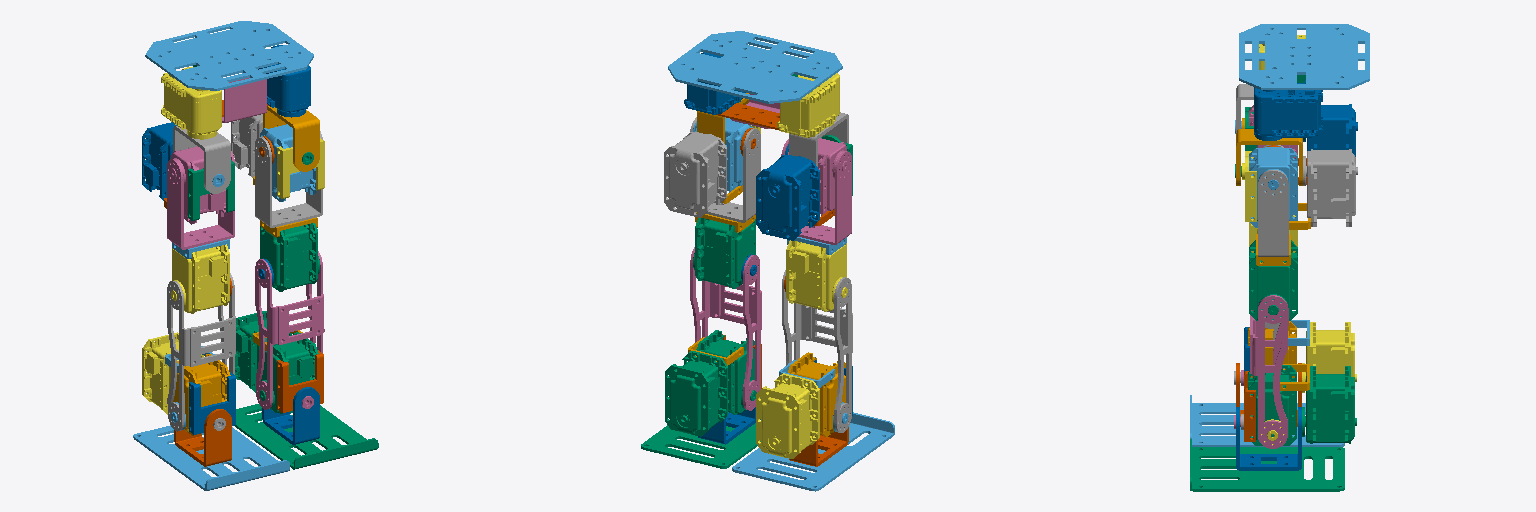
--- Render facts (derived) ---
3 views of the same robot in one strip: view 1: azimuth 30°, elevation 25°; view 2: azimuth 150°, elevation 25°; view 3: azimuth 270°, elevation 25° (orthographic).
Robot: Biped_12DOF_torsoappended_190923 — 51 links, 50 joints (12 continuous, 38 fixed); root link base_link; default pose: every joint at zero.
Links seen in each view (by area): view 1: base_link, Foot_L1, Knee_Foot_bracket_R1, Knee_Foot_Bracket_L1, Foot_R1, Knee_servo_Pitch_L1, Knee_servo_Pitch_R1, Hip_servo_Yaw_L1, Hip_Knee_bracket_L1, Hip_Knee_Backet_R1, foot_connect_L1, foot_connect_R1 (+16 smaller); view 2: base_link, Hip_servo_roll_L1, Hip_servo_roll_R1, foot_servo_roll_L1, foot_Servo_roll_R1, Foot_L1, Knee_Foot_Bracket_L1, Knee_Foot_bracket_R1, Knee_servo_Pitch_L1, Knee_servo_Pitch_R1, Foot_R1, Hip_servo_Yaw_L1 (+12 smaller); view 3: base_link, Foot_R1, Hip_servo_roll_R1, foot_Servo_roll_R1, Knee_Foot_bracket_R1, Hip_servo_Yaw__R_1, Hip_Knee_Backet_R1, Knee_servo_Pitch_R1, Foot_L1, foot_servo_roll_L1, Hip_servo_Pitch_R1, Hip_servo_roll_L1 (+6 smaller).
Link boxes in pixels (x1,y1,x2,y2): base_link: (145,21,313,90); Foot_L1: (133,425,289,490); Knee_Foot_bracket_R1: (255,251,324,409); Knee_Foot_Bracket_L1: (167,273,235,431); Foot_R1: (234,404,378,469); Knee_servo_Pitch_L1: (171,244,229,313); Knee_servo_Pitch_R1: (260,223,319,291); Hip_servo_Yaw_L1: (161,67,221,139); Hip_Knee_bracket_L1: (167,151,234,249); Hip_Knee_Backet_R1: (255,131,322,227); foot_connect_L1: (174,409,231,466); foot_connect_R1: (262,387,319,444); base_link: (668,31,842,103); Hip_servo_roll_L1: (756,155,819,240); Hip_servo_roll_R1: (664,132,726,217); foot_servo_roll_L1: (756,373,819,458); foot_Servo_roll_R1: (665,351,727,436); Foot_L1: (732,412,894,491); Knee_Foot_Bracket_L1: (782,270,852,432); Knee_Foot_bracket_R1: (690,247,761,410); Knee_servo_Pitch_L1: (786,240,847,311); Knee_servo_Pitch_R1: (693,218,755,288); Foot_R1: (641,412,760,468); Hip_servo_Yaw_L1: (777,73,839,137); base_link: (1239,24,1369,89); Foot_R1: (1190,439,1344,491); Hip_servo_roll_R1: (1303,149,1357,226); foot_Servo_roll_R1: (1302,366,1356,443); Knee_Foot_bracket_R1: (1250,295,1288,448); Hip_servo_Yaw__R_1: (1254,79,1322,140); Hip_Knee_Backet_R1: (1258,145,1288,256); Knee_servo_Pitch_R1: (1249,240,1297,320); Foot_L1: (1190,395,1344,446); foot_servo_roll_L1: (1302,322,1356,392); Hip_servo_Pitch_R1: (1249,147,1297,227); Hip_servo_roll_L1: (1303,104,1357,156).
Size in the robot's own frame: 0.148 by 0.131 by 0.3349 metres.
50 mesh visuals loaded from 50 distinct referenced files (50 binary STL).

robot.urdf — Biped_12DOF_torsoappended_190923:
<?xml version="1.0" ?>
<robot name="Biped_12DOF_torsoappended_190923">

<material name="silver">
  <color rgba="0.700 0.700 0.700 1.000"/>
</material>

<link name="base_box">
  <inertial>
    
    <!--origin xyz="-0.07139043603557767 -0.16954551899156534 0.300032870177832" rpy="0 0 0"/-->
    <mass value="0.01"/>
    <inertia ixx="0.00025" ixy="0" ixz="0" iyy="0.00089" iyz="0" izz="0.00064"/>
     
     <!--inertia ixx="0.00250000000000000006" ixy="0" ixz="0" iyy="0.0089000000000000002" iyz="0" izz="0.00640" for m= 1/-->
  </inertial>
  <visual>
    <origin xyz="0 0 0" rpy="0 0 0"/>
    <geometry>
      <!--box size=".08 .02 .05"/-->
      <box size="0 0 0"/>
    </geometry>
    <material name="silver"/>
    <material/>
  </visual>
  <collision>
    <origin xyz="0 0 0" rpy="0 0 0"/>
    <geometry>
      <box size="0.0 0.0 0.0"/>
    </geometry>
  </collision>
</link>


<link name="base_link">
  <inertial>
    <origin xyz="0.06060872462491695 0.036723589973975845 0.30999861161402337" rpy="0 0 0"/>
    <mass value="0.02188916916153513"/>
    <inertia ixx="1.4745375687328505e-05" iyy="2.054443019497247e-05" izz="3.527521310286041e-05" ixy="-9.684751620381694e-09" iyz="-2.168404344971009e-19" ixz="1.0842021724855044e-19"/>
  </inertial>
  <visual>
    <origin xyz="0 0 0" rpy="0 0 0"/>
    <geometry>
      <mesh filename="meshes/base_link.stl" scale="0.001 0.001 0.001"/>
    </geometry>
    <material name="silver"/>
    <material/>
  </visual>
  <collision>
    <origin xyz="0 0 0" rpy="0 0 0"/>
    <geometry>
      <mesh filename="meshes/base_link.stl" scale="0.001 0.001 0.001"/>
    </geometry>
  </collision>
</link>

<link name="connect_link_v11">
  <inertial>
    <origin xyz="8.755939062687901e-08 -0.005999506282332957 -0.0032503883859776317" rpy="0 0 0"/>
    <mass value="0.00969209120805048"/>
    <inertia ixx="4.4427801889897027e-07" iyy="2.5957966162830142e-06" izz="2.9718261595912686e-06" ixy="5.759824041329242e-20" iyz="-2.710505431213761e-20" ixz="0.0"/>
  </inertial>
  <visual>
    <origin xyz="-0.060628 -0.038873 -0.308999" rpy="0 0 0"/>
    <geometry>
      <mesh filename="meshes/connect_link_v11.stl" scale="0.001 0.001 0.001"/>
    </geometry>
    <material name="silver"/>
    <material/>
  </visual>
  <collision>
    <origin xyz="-0.060628 -0.038873 -0.308999" rpy="0 0 0"/>
    <geometry>
      <mesh filename="meshes/connect_link_v11.stl" scale="0.001 0.001 0.001"/>
    </geometry>
  </collision>
</link>

<link name="Hip_servo_Yaw_L1">
  <inertial>
    <origin xyz="-0.013531113018413154 -0.00969047444291548 -0.01700249284622163" rpy="0 0 0"/>
    <mass value="0.0811"/>
    <inertia ixx="2.3417335463269515e-05" iyy="12.961400395210524e-06" izz="1.969636612402693e-05" ixy="2.0523614970348356e-08" iyz="-1.5930335249283921e-07" ixz="-2.7805076826824883e-09"/>
  </inertial>
  <visual>
    <origin xyz="-0.035628 -0.032873 -0.302499" rpy="0 0 0"/>
    <geometry>
      <mesh filename="meshes/Hip_servo_Yaw_L1.stl" scale="0.001 0.001 0.001"/>
    </geometry>
    <material name="silver"/>
    <material/>
  </visual>
  <collision>
    <origin xyz="-0.035628 -0.032873 -0.302499" rpy="0 0 0"/>
    <geometry>
      <mesh filename="meshes/Hip_servo_Yaw_L1.stl" scale="0.001 0.001 0.001"/>
    </geometry>
  </collision>
</link>

<link name="Hip_servo_Yaw__R_1">
  <inertial>
    <origin xyz="0.013468886981585007 -0.00969047444291786 -0.016802492846221484" rpy="0 0 0"/>
    <mass value="0.0811"/>
    <inertia ixx="2.3417335463269515e-05" iyy="12.961400395210524e-06" izz="1.969636612402693e-05" ixy="2.0523614970348356e-08" iyz="-1.5930335249283921e-07" ixz="-2.7805076826824883e-09"/>
  </inertial>
  <visual>
    <origin xyz="-0.085628 -0.032873 -0.302499" rpy="0 0 0"/>
    <geometry>
      <mesh filename="meshes/Hip_servo_Yaw__R_1.stl" scale="0.001 0.001 0.001"/>
    </geometry>
    <material name="silver"/>
    <material/>
  </visual>
  <collision>
    <origin xyz="-0.085628 -0.032873 -0.302499" rpy="0 0 0"/>
    <geometry>
      <mesh filename="meshes/Hip_servo_Yaw__R_1.stl" scale="0.001 0.001 0.001"/>
    </geometry>
  </collision>
</link>

<link name="connect_link_21">
  <inertial>
    <origin xyz="0.025000087559390392 4.93717667540694e-07 -0.0007503883859772409" rpy="0 0 0"/>
    <mass value="0.0022366364326270346"/>
    <inertia ixx="9.507024189355125e-08" iyy="5.915745335974634e-07" izz="6.858060368287546e-07" ixy="1.4399560103323106e-20" iyz="3.3881317890172014e-21" ixz="6.776263578034403e-21"/>
  </inertial>
  <visual>
    <origin xyz="-0.035628 -0.032873 -0.270499" rpy="0 0 0"/>
    <geometry>
      <mesh filename="meshes/connect_link_21.stl" scale="0.001 0.001 0.001"/>
    </geometry>
    <material name="silver"/>
    <material/>
  </visual>
  <collision>
    <origin xyz="-0.035628 -0.032873 -0.270499" rpy="0 0 0"/>
    <geometry>
      <mesh filename="meshes/connect_link_21.stl" scale="0.001 0.001 0.001"/>
    </geometry>
  </collision>
</link>

<link name="support_link1">
  <inertial>
    <origin xyz="8.755938650517603e-08 -0.01899092222380293 0.008312349694208576" rpy="0 0 0"/>
    <mass value="0.004271598629814522"/>
    <inertia ixx="9.380132827919367e-07" iyy="9.819874908971005e-07" izz="8.644459883259723e-07" ixy="-2.82061971435682e-19" iyz="2.809956492261554e-07" ixz="1.4907779871675686e-19"/>
  </inertial>
  <visual>
    <origin xyz="-0.060628 -0.038873 -0.268999" rpy="0 0 0"/>
    <geometry>
      <mesh filename="meshes/support_link1.stl" scale="0.001 0.001 0.001"/>
    </geometry>
    <material name="silver"/>
    <material/>
  </visual>
  <collision>
    <origin xyz="-0.060628 -0.038873 -0.268999" rpy="0 0 0"/>
    <geometry>
      <mesh filename="meshes/support_link1.stl" scale="0.001 0.001 0.001"/>
    </geometry>
  </collision>
</link>

<link name="Hip_bracket_yaw_L_v11">
  <inertial>
    <origin xyz="8.755937528151514e-08 -0.00019455926519733498 -0.012368152810058874" rpy="0 0 0"/>
    <mass value="0.008735700587823858"/>
    <inertia ixx="4.557715173367227e-06" iyy="1.596604357873184e-06" izz="3.6811077103368883e-06" ixy="-8.343274530454858e-20" iyz="-2.8340072973809954e-08" ixz="-3.503328269843786e-18"/>
  </inertial>
  <visual>
    <origin xyz="-0.022128 -0.010373 -0.265499" rpy="0 0 0"/>
    <geometry>
      <mesh filename="meshes/Hip_bracket_yaw_L_v11.stl" scale="0.001 0.001 0.001"/>
    </geometry>
    <material name="silver"/>
    <material/>
  </visual>
  <collision>
    <origin xyz="-0.022128 -0.010373 -0.265499" rpy="0 0 0"/>
    <geometry>
      <mesh filename="meshes/Hip_bracket_yaw_L_v11.stl" scale="0.001 0.001 0.001"/>
    </geometry>
  </collision>
</link>

<link name="Hip_Bracket_yaw_R1">
  <inertial>
    <origin xyz="8.755937279392167e-08 -0.0001945592651994444 -0.012368152810057986" rpy="0 0 0"/>
    <mass value="0.008735700587823858"/>
    <inertia ixx="4.557715173370263e-06" iyy="1.5966043578800144e-06" izz="3.681107710333268e-06" ixy="-7.115076756936123e-20" iyz="-2.8340072973769297e-08" ixz="-3.415236843329339e-18"/>
  </inertial>
  <visual>
    <origin xyz="-0.099128 -0.010373 -0.265699" rpy="0 0 0"/>
    <geometry>
      <mesh filename="meshes/Hip_Bracket_yaw_R1.stl" scale="0.001 0.001 0.001"/>
    </geometry>
    <material name="silver"/>
    <material/>
  </visual>
  <collision>
    <origin xyz="-0.099128 -0.010373 -0.265699" rpy="0 0 0"/>
    <geometry>
      <mesh filename="meshes/Hip_Bracket_yaw_R1.stl" scale="0.001 0.001 0.001"/>
    </geometry>
  </collision>
</link>

<link name="Bush_2_1">
  <inertial>
    <origin xyz="0.022128087559382902 0.21457600178506725 -0.04262638838534463" rpy="0 0 0"/>
    <mass value="0.00033912761870964644"/>
    <inertia ixx="3.5534106983028924e-09" iyy="4.084788845227892e-09" izz="3.553410474846204e-09" ixy="-2.6469779601696886e-23" iyz="-1.4336032632279033e-19" ixz="2.117582368135751e-22"/>
  </inertial>
  <visual>
    <origin xyz="0.0 0.226125 -0.279125" rpy="0 0 0"/>
    <geometry>
      <mesh filename="meshes/Bush_2_1.stl" scale="0.001 0.001 0.001"/>
    </geometry>
    <material name="silver"/>
    <material/>
  </visual>
  <collision>
    <origin xyz="0.0 0.226125 -0.279125" rpy="0 0 0"/>
    <geometry>
      <mesh filename="meshes/Bush_2_1.stl" scale="0.001 0.001 0.001"/>
    </geometry>
  </collision>
</link>

<link name="Bush_1_v11">
  <inertial>
    <origin xyz="-0.07712791244061934 -0.2586209982149346 -0.04262638838534433" rpy="0 0 0"/>
    <mass value="0.00033912761870964644"/>
    <inertia ixx="3.5534106983028924e-09" iyy="4.084788845234668e-09" izz="3.553410474846707e-09" ixy="5.293955920339377e-23" iyz="-1.4336032632279033e-19" ixz="0.0"/>
  </inertial>
  <visual>
    <origin xyz="-0.176256 -0.247072 -0.279325" rpy="0 0 0"/>
    <geometry>
      <mesh filename="meshes/Bush_1_v11.stl" scale="0.001 0.001 0.001"/>
    </geometry>
    <material name="silver"/>
    <material/>
  </visual>
  <collision>
    <origin xyz="-0.176256 -0.247072 -0.279325" rpy="0 0 0"/>
    <geometry>
      <mesh filename="meshes/Bush_1_v11.stl" scale="0.001 0.001 0.001"/>
    </geometry>
  </collision>
</link>

<link name="Washer_11">
  <inertial>
    <origin xyz="-0.09912791244096347 -0.008551506282331372 0.2366986116140234" rpy="0 0 0"/>
    <mass value="0.0001569470040624276"/>
    <inertia ixx="2.095397917133054e-09" iyy="4.096365919137407e-09" izz="2.095397782786852e-09" ixy="2.6469779601696886e-23" iyz="0.0" ixz="4.235164736271502e-22"/>
  </inertial>
  <visual>
    <origin xyz="-0.198256 -0.0 -0.0" rpy="0 0 0"/>
    <geometry>
      <mesh filename="meshes/Washer_11.stl" scale="0.001 0.001 0.001"/>
    </geometry>
    <material name="silver"/>
    <material/>
  </visual>
  <collision>
    <origin xyz="-0.198256 -0.0 -0.0" rpy="0 0 0"/>
    <geometry>
      <mesh filename="meshes/Washer_11.stl" scale="0.001 0.001 0.001"/>
    </geometry>
  </collision>
</link>

<link name="Hip_servo_roll_L1">
  <inertial>
    <origin xyz="0.02212792246244539 0.28094966903192353 -0.005937424755607296" rpy="0 0 0"/>
     <mass value="0.0811"/>
    <inertia ixx="2.3417335463269515e-05" iyy="12.961400395210524e-06" izz="1.969636612402693e-05" ixy="2.0523614970348356e-08" iyz="-1.5930335249283921e-07" ixz="-2.7805076826824883e-09"/>
  </inertial>
  <visual>
    <origin xyz="0.0 0.226125 -0.231125" rpy="0 0 0"/>
    <geometry>
      <mesh filename="meshes/Hip_servo_roll_L1.stl" scale="0.001 0.001 0.001"/>
    </geometry>
    <material name="silver"/>
    <material/>
  </visual>
  <collision>
    <origin xyz="0.0 0.226125 -0.231125" rpy="0 0 0"/>
    <geometry>
      <mesh filename="meshes/Hip_servo_roll_L1.stl" scale="0.001 0.001 0.001"/>
    </geometry>
  </collision>
</link>

<link name="Support_roll_servo_L1">
  <inertial>
    <origin xyz="-0.008342818068121632 -0.007693332734379908 -8.605220785384837e-07" rpy="0 0 0"/>
    <mass value="0.001003390579055556"/>
    <inertia ixx="5.969253484000835e-08" iyy="1.9068402818395841e-07" izz="2.44845355143008e-07" ixy="-1.0691242380712038e-09" iyz="-8.557850778121313e-13" ixz="1.6064752087411026e-10"/>
  </inertial>
  <visual>
    <origin xyz="-0.030628 -0.040148 -0.200699" rpy="0 0 0"/>
    <geometry>
      <mesh filename="meshes/Support_roll_servo_L1.stl" scale="0.001 0.001 0.001"/>
    </geometry>
    <material name="silver"/>
    <material/>
  </visual>
  <collision>
    <origin xyz="-0.030628 -0.040148 -0.200699" rpy="0 0 0"/>
    <geometry>
      <mesh filename="meshes/Support_roll_servo_L1.stl" scale="0.001 0.001 0.001"/>
    </geometry>
  </collision>
</link>

<link name="Hip_servo_Pitch_L1">
  <inertial>
    <origin xyz="0.014675874563868638 -0.00849934833873182 0.02448944364464442" rpy="0 0 0"/>
    <mass value="0.0811"/>
    <inertia ixx="2.3417335463269515e-05" iyy="12.961400395210524e-06" izz="1.969636612402693e-05" ixy="2.0523614970348356e-08" iyz="-1.5930335249283921e-07" ixz="-2.7805076826824883e-09"/>
  </inertial>
  <visual>
    <origin xyz="-0.007126 -0.021598 -0.200711" rpy="0 0 0"/>
    <geometry>
      <mesh filename="meshes/Hip_servo_Pitch_L1.stl" scale="0.001 0.001 0.001"/>
    </geometry>
    <material name="silver"/>
    <material/>
  </visual>
  <collision>
    <origin xyz="-0.007126 -0.021598 -0.200711" rpy="0 0 0"/>
    <geometry>
      <mesh filename="meshes/Hip_servo_Pitch_L1.stl" scale="0.001 0.001 0.001"/>
    </geometry>
  </collision>
</link>

<link name="Hip_servo_roll_R1">
  <inertial>
    <origin xyz="-7.753755698614029e-08 0.02042667618526226 -0.011311424755605842" rpy="0 0 0"/>
    <mass value="0.0811"/>
    <inertia ixx="2.3417335463269515e-05" iyy="12.961400395210524e-06" izz="1.969636612402693e-05" ixy="2.0523614970348356e-08" iyz="-1.5930335249283921e-07" ixz="-2.7805076826824883e-09"/>
  </inertial>
  <visual>
    <origin xyz="-0.099128 -0.034373 -0.236699" rpy="0 0 0"/>
    <geometry>
      <mesh filename="meshes/Hip_servo_roll_R1.stl" scale="0.001 0.001 0.001"/>
    </geometry>
    <material name="silver"/>
    <material/>
  </visual>
  <collision>
    <origin xyz="-0.099128 -0.034373 -0.236699" rpy="0 0 0"/>
    <geometry>
      <mesh filename="meshes/Hip_servo_roll_R1.stl" scale="0.001 0.001 0.001"/>
    </geometry>
  </collision>
</link>

<link name="Support_roll_Servo_R1">
  <inertial>
    <origin xyz="-0.008482904734634547 -0.007763870604140438 -7.445276328510442e-07" rpy="0 0 0"/>
    <mass value="0.000991152631600229"/>
    <inertia ixx="5.899142983411561e-08" iyy="1.8810254074607535e-07" izz="2.4162816800247254e-07" ixy="-6.052279683857172e-11" iyz="-1.6902670593133494e-12" ixz="1.5851502979013143e-10"/>
  </inertial>
  <visual>
    <origin xyz="-0.107628 -0.040123 -0.200899" rpy="0 0 0"/>
    <geometry>
      <mesh filename="meshes/Support_roll_Servo_R1.stl" scale="0.001 0.001 0.001"/>
    </geometry>
    <material name="silver"/>
    <material/>
  </visual>
  <collision>
    <origin xyz="-0.107628 -0.040123 -0.200899" rpy="0 0 0"/>
    <geometry>
      <mesh filename="meshes/Support_roll_Servo_R1.stl" scale="0.001 0.001 0.001"/>
    </geometry>
  </collision>
</link>

<link name="Hip_servo_Pitch_R1">
  <inertial>
    <origin xyz="-0.014676502879000491 -0.008499671379272359 0.024488710964318067" rpy="0 0 0"/>
     <mass value="0.0811"/>
    <inertia ixx="2.3417335463269515e-05" iyy="12.961400395210524e-06" izz="1.969636612402693e-05" ixy="2.0523614970348356e-08" iyz="-1.5930335249283921e-07" ixz="-2.7805076826824883e-09"/>
  </inertial>
  <visual>
    <origin xyz="-0.114126 -0.021593 -0.200886" rpy="0 0 0"/>
    <geometry>
      <mesh filename="meshes/Hip_servo_Pitch_R1.stl" scale="0.001 0.001 0.001"/>
    </geometry>
    <material name="silver"/>
    <material/>
  </visual>
  <collision>
    <origin xyz="-0.114126 -0.021593 -0.200886" rpy="0 0 0"/>
    <geometry>
      <mesh filename="meshes/Hip_servo_Pitch_R1.stl" scale="0.001 0.001 0.001"/>
    </geometry>
  </collision>
</link>

<link name="side_attach_L_hip1">
  <inertial>
    <origin xyz="0.014999692096273623 -0.0030449648531452583 -0.0129790855107213" rpy="0 0 0"/>
    <mass value="0.0051821405505521004"/>
    <inertia ixx="6.678809461064129e-07" iyy="1.5448767594578657e-06" izz="9.305088933269494e-07" ixy="1.376428539288238e-20" iyz="2.639983998775246e-08" ixz="-4.0657581468206416e-20"/>
  </inertial>
  <visual>
    <origin xyz="-0.007126 0.001902 -0.241011" rpy="0 0 0"/>
    <geometry>
      <mesh filename="meshes/side_attach_L_hip1.stl" scale="0.001 0.001 0.001"/>
    </geometry>
    <material name="silver"/>
    <material/>
  </visual>
  <collision>
    <origin xyz="-0.007126 0.001902 -0.241011" rpy="0 0 0"/>
    <geometry>
      <mesh filename="meshes/side_attach_L_hip1.stl" scale="0.001 0.001 0.001"/>
    </geometry>
  </collision>
</link>

<link name="side_attach_R_hip1">
  <inertial>
    <origin xyz="0.014999679588596604 -0.0030449576998069347 -0.012979818191048487" rpy="0 0 0"/>
    <mass value="0.0051821405505521004"/>
    <inertia ixx="6.678809461064129e-07" iyy="1.5448767594578115e-06" izz="9.305088933269325e-07" ixy="4.1081097941833566e-20" iyz="2.6399839987756695e-08" ixz="-5.421010862427522e-20"/>
  </inertial>
  <visual>
    <origin xyz="-0.084126 0.001907 -0.241186" rpy="0 0 0"/>
    <geometry>
      <mesh filename="meshes/side_attach_R_hip1.stl" scale="0.001 0.001 0.001"/>
    </geometry>
    <material name="silver"/>
    <material/>
  </visual>
  <collision>
    <origin xyz="-0.084126 0.001907 -0.241186" rpy="0 0 0"/>
    <geometry>
      <mesh filename="meshes/side_attach_R_hip1.stl" scale="0.001 0.001 0.001"/>
    </geometry>
  </collision>
</link>

<link name="Horn_L_pitch1">
  <inertial>
    <origin xyz="0.0012521355878538712 4.865593969827914e-07 4.813353695898304e-07" rpy="0 0 0"/>
    <mass value="0.0010452069679460242"/>
    <inertia ixx="5.912619983875389e-08" iyy="3.074557111910957e-08" izz="3.074619929578471e-08" ixy="-1.0727354639620493e-17" iyz="-9.826429221097138e-18" ixz="2.9483977007094004e-13"/>
  </inertial>
  <visual>
    <origin xyz="-0.041376 -0.013098 -0.236511" rpy="0 0 0"/>
    <geometry>
      <mesh filename="meshes/Horn_L_pitch1.stl" scale="0.001 0.001 0.001"/>
    </geometry>
    <material name="silver"/>
    <material/>
  </visual>
  <collision>
    <origin xyz="-0.041376 -0.013098 -0.236511" rpy="0 0 0"/>
    <geometry>
      <mesh filename="meshes/Horn_L_pitch1.stl" scale="0.001 0.001 0.001"/>
    </geometry>
  </collision>
</link>

<link name="Horn_R_pitch1">
  <inertial>
    <origin xyz="-0.0012527639029847326 4.937225982701299e-07 -2.5134495748591057e-07" rpy="0 0 0"/>
    <mass value="0.0010452069679460242"/>
    <inertia ixx="5.912619983876067e-08" iyy="3.074557111909602e-08" izz="3.0746199295786403e-08" ixy="-1.072682524402846e-17" iyz="9.827276254044393e-18" ixz="-2.9483976837687415e-13"/>
  </inertial>
  <visual>
    <origin xyz="-0.079876 -0.013093 -0.236686" rpy="0 0 0"/>
    <geometry>
      <mesh filename="meshes/Horn_R_pitch1.stl" scale="0.001 0.001 0.001"/>
    </geometry>
    <material name="silver"/>
    <material/>
  </visual>
  <collision>
    <origin xyz="-0.079876 -0.013093 -0.236686" rpy="0 0 0"/>
    <geometry>
      <mesh filename="meshes/Horn_R_pitch1.stl" scale="0.001 0.001 0.001"/>
    </geometry>
  </collision>
</link>

<link name="Hip_Knee_bracket_L1">
  <inertial>
    <origin xyz="0.021249692096275977 4.865643284390764e-07 -0.033829438471636136" rpy="0 0 0"/>
    <mass value="0.009175751935708147"/>
    <inertia ixx="4.594487188322037e-06" iyy="8.003394278945509e-06" izz="4.152987321468783e-06" ixy="4.1928130889087867e-20" iyz="5.421010862427522e-20" ixz="6.301925127571995e-19"/>
  </inertial>
  <visual>
    <origin xyz="-0.001376 -0.013098 -0.236511" rpy="0 0 0"/>
    <geometry>
      <mesh filename="meshes/Hip_Knee_bracket_L1.stl" scale="0.001 0.001 0.001"/>
    </geometry>
    <material name="silver"/>
    <material/>
  </visual>
  <collision>
    <origin xyz="-0.001376 -0.013098 -0.236511" rpy="0 0 0"/>
    <geometry>
      <mesh filename="meshes/Hip_Knee_bracket_L1.stl" scale="0.001 0.001 0.001"/>
    </geometry>
  </collision>
</link>

<link name="Hip_Knee_Backet_R1">
  <inertial>
    <origin xyz="-0.021250320411406745 4.937176672527299e-07 -0.03383017115196263" rpy="0 0 0"/>
    <mass value="0.009175751935708147"/>
    <inertia ixx="4.5944871883218746e-06" iyy="8.0033942789454e-06" izz="4.15298732146876e-06" ixy="6.098637220230962e-20" iyz="9.486769009248164e-20" ixz="-6.2341624917916505e-19"/>
  </inertial>
  <visual>
    <origin xyz="-0.119876 -0.013093 -0.236686" rpy="0 0 0"/>
    <geometry>
      <mesh filename="meshes/Hip_Knee_Backet_R1.stl" scale="0.001 0.001 0.001"/>
    </geometry>
    <material name="silver"/>
    <material/>
  </visual>
  <collision>
    <origin xyz="-0.119876 -0.013093 -0.236686" rpy="0 0 0"/>
    <geometry>
      <mesh filename="meshes/Hip_Knee_Backet_R1.stl" scale="0.001 0.001 0.001"/>
    </geometry>
  </collision>
</link>

<link name="Knee_attach_R1">
  <inertial>
    <origin xyz="-0.006000320411404053 0.005000493717670246 -0.002398275087053814" rpy="0 0 0"/>
    <mass value="0.004096604584621629"/>
    <inertia ixx="2.3788320348527283e-07" iyy="5.967941100390168e-07" izz="8.00202789891466e-07" ixy="5.082197683525802e-21" iyz="1.2027867851011065e-19" ixz="0.0"/>
  </inertial>
  <visual>
    <origin xyz="-0.104626 -0.008093 -0.177786" rpy="0 0 0"/>
    <geometry>
      <mesh filename="meshes/Knee_attach_R1.stl" scale="0.001 0.001 0.001"/>
    </geometry>
    <material name="silver"/>
    <material/>
  </visual>
  <collision>
    <origin xyz="-0.104626 -0.008093 -0.177786" rpy="0 0 0"/>
    <geometry>
      <mesh filename="meshes/Knee_attach_R1.stl" scale="0.001 0.001 0.001"/>
    </geometry>
  </collision>
</link>

<link name="Knee_attach_L1">
  <inertial>
    <origin xyz="0.005999692096272949 0.0050004865643309675 -0.002397542406727099" rpy="0 0 0"/>
    <mass value="0.004096604584621629"/>
    <inertia ixx="2.3788320348529994e-07" iyy="5.967941100390168e-07" izz="8.002027898914601e-07" ixy="4.446922973085077e-21" iyz="1.2366681029912785e-19" ixz="-3.3881317890172014e-21"/>
  </inertial>
  <visual>
    <origin xyz="-0.016626 -0.008098 -0.177611" rpy="0 0 0"/>
    <geometry>
      <mesh filename="meshes/Knee_attach_L1.stl" scale="0.001 0.001 0.001"/>
    </geometry>
    <material name="silver"/>
    <material/>
  </visual>
  <collision>
    <origin xyz="-0.016626 -0.008098 -0.177611" rpy="0 0 0"/>
    <geometry>
      <mesh filename="meshes/Knee_attach_L1.stl" scale="0.001 0.001 0.001"/>
    </geometry>
  </collision>
</link>

<link name="Knee_servo_Pitch_R1">
  <inertial>
    <origin xyz="-0.014676502879000353 0.008500658814608045 -0.024489216296418842" rpy="0 0 0"/>
    <mass value="0.0811"/>
    <inertia ixx="2.3417335463269515e-05" iyy="12.961400395210524e-06" izz="1.969636612402693e-05" ixy="2.0523614970348356e-08" iyz="-1.5930335249283921e-07" ixz="-2.7805076826824883e-09"/>
  </inertial>
  <visual>
    <origin xyz="-0.113626 -0.004593 -0.171986" rpy="0 0 0"/>
    <geometry>
      <mesh filename="meshes/Knee_servo_Pitch_R1.stl" scale="0.001 0.001 0.001"/>
    </geometry>
    <material name="silver"/>
    <material/>
  </visual>
  <collision>
    <origin xyz="-0.113626 -0.004593 -0.171986" rpy="0 0 0"/>
    <geometry>
      <mesh filename="meshes/Knee_servo_Pitch_R1.stl" scale="0.001 0.001 0.001"/>
    </geometry>
  </collision>
</link>

<link name="Knee_servo_Pitch_L1">
  <inertial>
    <origin xyz="0.014675874563868638 0.008500321467389181 -0.024488483616092294" rpy="0 0 0"/>
    <mass value="0.0811"/>
    <inertia ixx="2.3417335463269515e-05" iyy="12.961400395210524e-06" izz="1.969636612402693e-05" ixy="2.0523614970348356e-08" iyz="-1.5930335249283921e-07" ixz="-2.7805076826824883e-09"/>
  </inertial>
  <visual>
    <origin xyz="-0.007626 -0.004598 -0.171811" rpy="0 0 0"/>
    <geometry>
      <mesh filename="meshes/Knee_servo_Pitch_L1.stl" scale="0.001 0.001 0.001"/>
    </geometry>
    <material name="silver"/>
    <material/>
  </visual>
  <collision>
    <origin xyz="-0.007626 -0.004598 -0.171811" rpy="0 0 0"/>
    <geometry>
      <mesh filename="meshes/Knee_servo_Pitch_L1.stl" scale="0.001 0.001 0.001"/>
    </geometry>
  </collision>
</link>

<link name="Horn_knee_R1">
  <inertial>
    <origin xyz="-0.001252763902984913 4.937226001661826e-07 -2.5134495568179815e-07" rpy="0 0 0"/>
    <mass value="0.0010452069679460242"/>
    <inertia ixx="5.9126199838750504e-08" iyy="3.074557111909602e-08" izz="3.0746199295785556e-08" ixy="-1.0727037002265273e-17" iyz="9.827276254044393e-18" ixz="-2.9483977007094004e-13"/>
  </inertial>
  <visual>
    <origin xyz="-0.079376 -0.013093 -0.136186" rpy="0 0 0"/>
    <geometry>
      <mesh filename="meshes/Horn_knee_R1.stl" scale="0.001 0.001 0.001"/>
    </geometry>
    <material name="silver"/>
    <material/>
  </visual>
  <collision>
    <origin xyz="-0.079376 -0.013093 -0.136186" rpy="0 0 0"/>
    <geometry>
      <mesh filename="meshes/Horn_knee_R1.stl" scale="0.001 0.001 0.001"/>
    </geometry>
  </collision>
</link>

<link name="horn_knee_L1">
  <inertial>
    <origin xyz="0.002252135587853879 4.865593970278942e-07 4.813353710608759e-07" rpy="0 0 0"/>
    <mass value="0.0010452069679460242"/>
    <inertia ixx="5.9126199838747116e-08" iyy="3.0745571119099405e-08" izz="3.074619929578513e-08" ixy="-1.0727037002265273e-17" iyz="-9.827276254044393e-18" ixz="2.94839770917973e-13"/>
  </inertial>
  <visual>
    <origin xyz="-0.040776 -0.013098 -0.136011" rpy="0 0 0"/>
    <geometry>
      <mesh filename="meshes/horn_knee_L1.stl" scale="0.001 0.001 0.001"/>
    </geometry>
    <material name="silver"/>
    <material/>
  </visual>
  <collision>
    <origin xyz="-0.040776 -0.013098 -0.136011" rpy="0 0 0"/>
    <geometry>
      <mesh filename="meshes/horn_knee_L1.stl" scale="0.001 0.001 0.001"/>
    </geometry>
  </collision>
</link>

<link name="Knee_Foot_bracket_R1">
  <inertial>
    <origin xyz="-0.020750320411406342 -0.005736828540610742 -0.045869017981759186" rpy="0 0 0"/>
    <mass value="0.01132882807356771"/>
    <inertia ixx="1.2028771165940581e-05" iyy="1.55864745617426e-05" izz="5.285440237642322e-06" ixy="-2.6359665318553827e-18" iyz="3.3191643722885005e-07" ixz="-4.824699667560495e-18"/>
  </inertial>
  <visual>
    <origin xyz="-0.119376 -0.013093 -0.136186" rpy="0 0 0"/>
    <geometry>
      <mesh filename="meshes/Knee_Foot_bracket_R1.stl" scale="0.001 0.001 0.001"/>
    </geometry>
    <material name="silver"/>
    <material/>
  </visual>
  <collision>
    <origin xyz="-0.119376 -0.013093 -0.136186" rpy="0 0 0"/>
    <geometry>
      <mesh filename="meshes/Knee_Foot_bracket_R1.stl" scale="0.001 0.001 0.001"/>
    </geometry>
  </collision>
</link>

<link name="Knee_Foot_Bracket_L1">
  <inertial>
    <origin xyz="0.02074969209627193 -0.005736835693952584 -0.04586828530143351" rpy="0 0 0"/>
    <mass value="0.01132882807356771"/>
    <inertia ixx="1.2028771165943156e-05" iyy="1.558647456173733e-05" izz="5.285440237642529e-06" ixy="-1.0532854699107225e-18" iyz="3.319164372288721e-07" ixz="-4.360525612465138e-18"/>
  </inertial>
  <visual>
    <origin xyz="-0.001876 -0.013098 -0.136011" rpy="0 0 0"/>
    <geometry>
      <mesh filename="meshes/Knee_Foot_Bracket_L1.stl" scale="0.001 0.001 0.001"/>
    </geometry>
    <material name="silver"/>
    <material/>
  </visual>
  <collision>
    <origin xyz="-0.001876 -0.013098 -0.136011" rpy="0 0 0"/>
    <geometry>
      <mesh filename="meshes/Knee_Foot_Bracket_L1.stl" scale="0.001 0.001 0.001"/>
    </geometry>
  </collision>
</link>

<link name="Foot_servo_pitch_L1">
  <inertial>
    <origin xyz="-0.02042649037132176 6.579111523682263e-07 0.011310766149735293" rpy="0 0 0"/>
    <mass value="0.0811"/>
    <inertia ixx="2.3417335463269515e-05" iyy="12.961400395210524e-06" izz="1.969636612402693e-05" ixy="2.0523614970348356e-08" iyz="-1.5930335249283921e-07" ixz="-2.7805076826824883e-09"/>
  </inertial>
  <visual>
    <origin xyz="-0.043376 -0.012598 -0.036013" rpy="0 0 0"/>
    <geometry>
      <mesh filename="meshes/Foot_servo_pitch_L1.stl" scale="0.001 0.001 0.001"/>
    </geometry>
    <material name="silver"/>
    <material/>
  </visual>
  <collision>
    <origin xyz="-0.043376 -0.012598 -0.036013" rpy="0 0 0"/>
    <geometry>
      <mesh filename="meshes/Foot_servo_pitch_L1.stl" scale="0.001 0.001 0.001"/>
    </geometry>
  </collision>
</link>

<link name="Horn_foot_L1">
  <inertial>
    <origin xyz="-0.08656475139530725 -0.03292450718085519 0.04509873110119793" rpy="0 0 0"/>
    <mass value="0.0010452069679460242"/>
    <inertia ixx="5.912619983874902e-08" iyy="3.074557111909665e-08" izz="3.074619929578468e-08" ixy="-1.0726944358036667e-17" iyz="9.827223314485189e-18" ixz="-2.9483976968712824e-13"/>
  </inertial>
  <visual>
    <origin xyz="-0.088888 -0.045523 0.009086" rpy="0 0 0"/>
    <geometry>
      <mesh filename="meshes/Horn_foot_L1.stl" scale="0.001 0.001 0.001"/>
    </geometry>
    <material name="silver"/>
    <material/>
  </visual>
  <collision>
    <origin xyz="-0.088888 -0.045523 0.009086" rpy="0 0 0"/>
    <geometry>
      <mesh filename="meshes/Horn_foot_L1.stl" scale="0.001 0.001 0.001"/>
    </geometry>
  </collision>
</link>

<link name="Foot_servo_pitch_R1">
  <inertial>
    <origin xyz="0.02042586205619032 3.348706169078314e-07 0.01131103346940917" rpy="0 0 0"/>
    <mass value="0.0811"/>
    <inertia ixx="2.3417335463269515e-05" iyy="12.961400395210524e-06" izz="1.969636612402693e-05" ixy="2.0523614970348356e-08" iyz="-1.5930335249283921e-07" ixz="-2.7805076826824883e-09"/>
  </inertial>
  <visual>
    <origin xyz="-0.077876 -0.012593 -0.036187" rpy="0 0 0"/>
    <geometry>
      <mesh filename="meshes/Foot_servo_pitch_R1.stl" scale="0.001 0.001 0.001"/>
    </geometry>
    <material name="silver"/>
    <material/>
  </visual>
  <collision>
    <origin xyz="-0.077876 -0.012593 -0.036187" rpy="0 0 0"/>
    <geometry>
      <mesh filename="meshes/Foot_servo_pitch_R1.stl" scale="0.001 0.001 0.001"/>
    </geometry>
  </collision>
</link>

<link name="horn_foot_R1">
  <inertial>
    <origin xyz="0.08673912308017687 -0.07717550003737624 0.045093998420873006" rpy="0 0 0"/>
    <mass value="0.0010452069679460242"/>
    <inertia ixx="5.9126199838749445e-08" iyy="3.0745571119099405e-08" izz="3.074619929578386e-08" ixy="-1.0728095793449341e-17" iyz="-9.827064495807579e-18" ixz="2.94839770917973e-13"/>
  </inertial>
  <visual>
    <origin xyz="-0.032189 -0.089769 0.008907" rpy="0 0 0"/>
    <geometry>
      <mesh filename="meshes/horn_foot_R1.stl" scale="0.001 0.001 0.001"/>
    </geometry>
    <material name="silver"/>
    <material/>
  </visual>
  <collision>
    <origin xyz="-0.032189 -0.089769 0.008907" rpy="0 0 0"/>
    <geometry>
      <mesh filename="meshes/horn_foot_R1.stl" scale="0.001 0.001 0.001"/>
    </geometry>
  </collision>
</link>

<link name="side_attach_foot_L1">
  <inertial>
    <origin xyz="0.01499969209627203 -0.003044958603260741 -0.02102070469489966" rpy="0 0 0"/>
    <mass value="0.0051821405505521004"/>
    <inertia ixx="6.678809461064637e-07" iyy="1.5448767594579199e-06" izz="9.305088933269494e-07" ixy="1.7470054537119944e-20" iyz="-2.6399839987736366e-08" ixz="-4.0657581468206416e-20"/>
  </inertial>
  <visual>
    <origin xyz="-0.007626 0.002402 -0.065513" rpy="0 0 0"/>
    <geometry>
      <mesh filename="meshes/side_attach_foot_L1.stl" scale="0.001 0.001 0.001"/>
    </geometry>
    <material name="silver"/>
    <material/>
  </visual>
  <collision>
    <origin xyz="-0.007626 0.002402 -0.065513" rpy="0 0 0"/>
    <geometry>
      <mesh filename="meshes/side_attach_foot_L1.stl" scale="0.001 0.001 0.001"/>
    </geometry>
  </collision>
</link>

<link name="side_attach_foot_R1">
  <inertial>
    <origin xyz="0.014999679588593176 -0.0030449514499178132 -0.021020437375226145" rpy="0 0 0"/>
    <mass value="0.0051821405505521004"/>
    <inertia ixx="6.67880946106462e-07" iyy="1.5448767594579334e-06" izz="9.305088933269528e-07" ixy="6.098637220230962e-20" iyz="-2.6399839987733613e-08" ixz="-4.743384504624082e-20"/>
  </inertial>
  <visual>
    <origin xyz="-0.083626 0.002407 -0.065687" rpy="0 0 0"/>
    <geometry>
      <mesh filename="meshes/side_attach_foot_R1.stl" scale="0.001 0.001 0.001"/>
    </geometry>
    <material name="silver"/>
    <material/>
  </visual>
  <collision>
    <origin xyz="-0.083626 0.002407 -0.065687" rpy="0 0 0"/>
    <geometry>
      <mesh filename="meshes/side_attach_foot_R1.stl" scale="0.001 0.001 0.001"/>
    </geometry>
  </collision>
</link>

<link name="Washer_31">
  <inertial>
    <origin xyz="-3.079033827589617e-07 -0.0009495071857869766 -2.702198959314561e-07" rpy="0 0 0"/>
    <mass value="0.0001569470040624276"/>
    <inertia ixx="2.0953979171312804e-09" iyy="4.096365919140425e-09" izz="2.0953977827867066e-09" ixy="3.970466940254533e-23" iyz="2.6469779601696886e-23" ixz="-2.6469779601696886e-23"/>
  </inertial>
  <visual>
    <origin xyz="-0.022626 0.008202 -0.036013" rpy="0 0 0"/>
    <geometry>
      <mesh filename="meshes/Washer_31.stl" scale="0.001 0.001 0.001"/>
    </geometry>
    <material name="silver"/>
    <material/>
  </visual>
  <collision>
    <origin xyz="-0.022626 0.008202 -0.036013" rpy="0 0 0"/>
    <geometry>
      <mesh filename="meshes/Washer_31.stl" scale="0.001 0.001 0.001"/>
    </geometry>
  </collision>
</link>

<link name="Washer_41">
  <inertial>
    <origin xyz="-3.2041106155789034e-07 -0.0009495000324434687 -2.900222124957441e-09" rpy="0 0 0"/>
    <mass value="0.0001569470040624276"/>
    <inertia ixx="2.0953979171312275e-09" iyy="4.0963659191399485e-09" izz="2.0953977827866404e-09" ixy="1.3234889800848443e-22" iyz="2.6469779601696886e-23" ixz="1.0587911840678754e-22"/>
  </inertial>
  <visual>
    <origin xyz="-0.098626 0.008207 -0.036187" rpy="0 0 0"/>
    <geometry>
      <mesh filename="meshes/Washer_41.stl" scale="0.001 0.001 0.001"/>
    </geometry>
    <material name="silver"/>
    <material/>
  </visual>
  <collision>
    <origin xyz="-0.098626 0.008207 -0.036187" rpy="0 0 0"/>
    <geometry>
      <mesh filename="meshes/Washer_41.stl" scale="0.001 0.001 0.001"/>
    </geometry>
  </collision>
</link>

<link name="support_attach_foot_R1">
  <inertial>
    <origin xyz="-0.014980904734635064 0.010766135645748173 1.250523819568139e-05" rpy="0 0 0"/>
    <mass value="0.000991152631600229"/>
    <inertia ixx="5.8991429834111377e-08" iyy="1.8810254074607874e-07" izz="2.4162816800247254e-07" ixy="-6.052279683264249e-11" iyz="-1.690267058889833e-12" ixz="1.585150297816611e-10"/>
  </inertial>
  <visual>
    <origin xyz="-0.113626 -0.021093 -0.071987" rpy="0 0 0"/>
    <geometry>
      <mesh filename="meshes/support_attach_foot_R1.stl" scale="0.001 0.001 0.001"/>
    </geometry>
    <material name="silver"/>
    <material/>
  </visual>
  <collision>
    <origin xyz="-0.113626 -0.021093 -0.071987" rpy="0 0 0"/>
    <geometry>
      <mesh filename="meshes/support_attach_foot_R1.stl" scale="0.001 0.001 0.001"/>
    </geometry>
  </collision>
</link>

<link name="support_attach_foot_L1">
  <inertial>
    <origin xyz="0.015019095265367776 0.010766128492404603 -1.3494761805218913e-05" rpy="0 0 0"/>
    <mass value="0.000991152631600229"/>
    <inertia ixx="5.899142983411053e-08" iyy="1.8810254074607705e-07" izz="2.416281680024772e-07" ixy="-6.052279683984227e-11" iyz="-1.6902670580428e-12" ixz="1.58515029785261e-10"/>
  </inertial>
  <visual>
    <origin xyz="-0.007626 -0.021098 -0.071813" rpy="0 0 0"/>
    <geometry>
      <mesh filename="meshes/support_attach_foot_L1.stl" scale="0.001 0.001 0.001"/>
    </geometry>
    <material name="silver"/>
    <material/>
  </visual>
  <collision>
    <origin xyz="-0.007626 -0.021098 -0.071813" rpy="0 0 0"/>
    <geometry>
      <mesh filename="meshes/support_attach_foot_L1.stl" scale="0.001 0.001 0.001"/>
    </geometry>
  </collision>
</link>

<link name="foot_Servo_roll_R1">
  <inertial>
    <origin xyz="0.008500252656323384 0.01467668243515189 -0.02448910225051438" rpy="0 0 0"/>
    <mass value="0.0811"/>
    <inertia ixx="2.3417335463269515e-05" iyy="12.961400395210524e-06" izz="1.969636612402693e-05" ixy="2.0523614970348356e-08" iyz="-1.5930335249283921e-07" ixz="-2.7805076826824883e-09"/>
  </inertial>
  <visual>
    <origin xyz="-0.090128 -0.039623 -0.072" rpy="0 0 0"/>
    <geometry>
      <mesh filename="meshes/foot_Servo_roll_R1.stl" scale="0.001 0.001 0.001"/>
    </geometry>
    <material name="silver"/>
    <material/>
  </visual>
  <collision>
    <origin xyz="-0.090128 -0.039623 -0.072" rpy="0 0 0"/>
    <geometry>
      <mesh filename="meshes/foot_Servo_roll_R1.stl" scale="0.001 0.001 0.001"/>
    </geometry>
  </collision>
</link>

<link name="foot_servo_roll_L1">
  <inertial>
    <origin xyz="0.008500252656324985 0.014676675281807584 -0.024489102250515565" rpy="0 0 0"/>
    <mass value="0.0811"/>
    <inertia ixx="2.3417335463269515e-05" iyy="12.961400395210524e-06" izz="1.969636612402693e-05" ixy="2.0523614970348356e-08" iyz="-1.5930335249283921e-07" ixz="-2.7805076826824883e-09"/>
  </inertial>
  <visual>
    <origin xyz="-0.014128 -0.039628 -0.0718" rpy="0 0 0"/>
    <geometry>
      <mesh filename="meshes/foot_servo_roll_L1.stl" scale="0.001 0.001 0.001"/>
    </geometry>
    <material name="silver"/>
    <material/>
  </visual>
  <collision>
    <origin xyz="-0.014128 -0.039628 -0.0718" rpy="0 0 0"/>
    <geometry>
      <mesh filename="meshes/foot_servo_roll_L1.stl" scale="0.001 0.001 0.001"/>
    </geometry>
  </collision>
</link>

<link name="foot_connect_R1">
  <inertial>
    <origin xyz="8.755939616411634e-08 -0.02418545026519283 -0.018933957152685102" rpy="0 0 0"/>
    <mass value="0.009163335973748653"/>
    <inertia ixx="5.388156082317761e-06" iyy="2.0604137855260025e-06" izz="4.098092484132955e-06" ixy="-3.4389537658524594e-19" iyz="3.226179646354344e-08" ixz="-3.2221133313553585e-18"/>
  </inertial>
  <visual>
    <origin xyz="-0.098628 -0.033873 -0.0362" rpy="0 0 0"/>
    <geometry>
      <mesh filename="meshes/foot_connect_R1.stl" scale="0.001 0.001 0.001"/>
    </geometry>
    <material name="silver"/>
    <material/>
  </visual>
  <collision>
    <origin xyz="-0.098628 -0.033873 -0.0362" rpy="0 0 0"/>
    <geometry>
      <mesh filename="meshes/foot_connect_R1.stl" scale="0.001 0.001 0.001"/>
    </geometry>
  </collision>
</link>

<link name="foot_connect_L1">
  <inertial>
    <origin xyz="8.755939907845178e-08 -0.02418545741853705 -0.018933957152686056" rpy="0 0 0"/>
    <mass value="0.009163335973748653"/>
    <inertia ixx="5.388156082317786e-06" iyy="2.060413785525978e-06" izz="4.09809248413296e-06" ixy="-1.6855955650360577e-19" iyz="3.226179646356017e-08" ixz="-3.2534535504037676e-18"/>
  </inertial>
  <visual>
    <origin xyz="-0.022628 -0.033878 -0.036" rpy="0 0 0"/>
    <geometry>
      <mesh filename="meshes/foot_connect_L1.stl" scale="0.001 0.001 0.001"/>
    </geometry>
    <material name="silver"/>
    <material/>
  </visual>
  <collision>
    <origin xyz="-0.022628 -0.033878 -0.036" rpy="0 0 0"/>
    <geometry>
      <mesh filename="meshes/foot_connect_L1.stl" scale="0.001 0.001 0.001"/>
    </geometry>
  </collision>
</link>

<link name="Bush_31">
  <inertial>
    <origin xyz="0.0986256795885939 -0.01442899196504672 -0.036187002900855" rpy="0 0 0"/>
    <mass value="0.00033912761870964644"/>
    <inertia ixx="3.55341069830501e-09" iyy="4.084788845233821e-09" izz="3.5534104748454365e-09" ixy="0.0" iyz="1.4328091698398524e-19" ixz="2.117582368135751e-22"/>
  </inertial>
  <visual>
    <origin xyz="-0.0 -0.0019 -0.072374" rpy="0 0 0"/>
    <geometry>
      <mesh filename="meshes/Bush_31.stl" scale="0.001 0.001 0.001"/>
    </geometry>
    <material name="silver"/>
    <material/>
  </visual>
  <collision>
    <origin xyz="-0.0 -0.0019 -0.072374" rpy="0 0 0"/>
    <geometry>
      <mesh filename="meshes/Bush_31.stl" scale="0.001 0.001 0.001"/>
    </geometry>
  </collision>
</link>

<link name="Bush_41">
  <inertial>
    <origin xyz="0.022625692096272715 -0.014423999118389902 -0.036012270220528525" rpy="0 0 0"/>
    <mass value="0.00033912761870964644"/>
    <inertia ixx="3.553410698305116e-09" iyy="4.084788845233398e-09" izz="3.5534104748462836e-09" ixy="-2.6469779601696886e-23" iyz="1.4328091698398524e-19" ixz="5.293955920339377e-23"/>
  </inertial>
  <visual>
    <origin xyz="-0.0 -0.0019 -0.072025" rpy="0 0 0"/>
    <geometry>
      <mesh filename="meshes/Bush_41.stl" scale="0.001 0.001 0.001"/>
    </geometry>
    <material name="silver"/>
    <material/>
  </visual>
  <collision>
    <origin xyz="-0.0 -0.0019 -0.072025" rpy="0 0 0"/>
    <geometry>
      <mesh filename="meshes/Bush_41.stl" scale="0.001 0.001 0.001"/>
    </geometry>
  </collision>
</link>

<link name="Washer_21">
  <inertial>
    <origin xyz="8.755903861679126e-08 -0.000949506282329789 -3.883859768794018e-07" rpy="0 0 0"/>
    <mass value="0.0001569470040624276"/>
    <inertia ixx="2.0953979171296658e-09" iyy="4.0963659191391015e-09" izz="2.0953977827866404e-09" ixy="5.624828165360588e-23" iyz="0.0" ixz="0.0"/>
  </inertial>
  <visual>
    <origin xyz="-0.022128 0.007627 -0.236499" rpy="0 0 0"/>
    <geometry>
      <mesh filename="meshes/Washer_21.stl" scale="0.001 0.001 0.001"/>
    </geometry>
    <material name="silver"/>
    <material/>
  </visual>
  <collision>
    <origin xyz="-0.022128 0.007627 -0.236499" rpy="0 0 0"/>
    <geometry>
      <mesh filename="meshes/Washer_21.stl" scale="0.001 0.001 0.001"/>
    </geometry>
  </collision>
</link>

<link name="Foot_L1">
  <inertial>
    <origin xyz="-2.7052128486727833e-05 0.007324772290066046 -0.0006236210593121259" rpy="0 0 0"/>
    <mass value="0.11874731720777594"/>
    <inertia ixx="0.00013504403572545478" iyy="5.5253122397327985e-05" izz="0.00018972335778322334" ixy="1.6680131596703596e-08" iyz="2.294744148063528e-06" ixz="-1.2134276637682498e-09"/>
  </inertial>
  <visual>
    <origin xyz="-0.016628 0.002622 -0.002" rpy="0 0 0"/>
    <geometry>
      <mesh filename="meshes/Foot_L1.stl" scale="0.001 0.001 0.001"/>
    </geometry>
    <material name="silver"/>
    <material/>
  </visual>
  <collision>
    <origin xyz="-0.016628 0.002622 -0.002" rpy="0 0 0"/>
    <geometry>
      <mesh filename="meshes/Foot_L1.stl" scale="0.001 0.001 0.001"/>
    </geometry>
  </collision>
</link>

<link name="Foot_R1">
  <inertial>
    <origin xyz="0.012027451028017819 -0.01725251116732917 -0.0007467666233469173" rpy="0 0 0"/>
    <mass value="0.12955381074460537"/>
    <inertia ixx="0.00014571037521278116" iyy="6.0318526185315115e-05" izz="0.00020541185133327164" ixy="-1.6849622382276346e-08" iyz="2.3689601189101116e-06" ixz="1.2527184422173737e-09"/>
  </inertial>
  <visual>
    <origin xyz="-0.092628 -0.022373 -0.0022" rpy="0 0 0"/>
    <geometry>
      <mesh filename="meshes/Foot_R1.stl" scale="0.001 0.001 0.001"/>
    </geometry>
    <material name="silver"/>
    <material/>
  </visual>
  <collision>
    <origin xyz="-0.092628 -0.022373 -0.0022" rpy="0 0 0"/>
    <geometry>
      <mesh filename="meshes/Foot_R1.stl" scale="0.001 0.001 0.001"/>
    </geometry>
  </collision>
</link>
<joint name="base_joint" type="fixed">
  <!--origin xyz="-0.07139043603557767 -0.19954551899156534 0.325032870177832" rpy="0 0 0"/-->
  <origin xyz="0.05139043603557767 -0.00009954551899156534 0.335032870177832" rpy="0 0 0"/>
  <parent link="base_link"/>
  <child link="base_box"/>
</joint>

<joint name="Rigid_1" type="fixed">
  <origin xyz="0.060628 0.038873 0.308999" rpy="0 0 0"/>
  <parent link="base_link"/>
  <child link="connect_link_v11"/>
</joint>

<joint name="Rigid_2" type="fixed">
  <origin xyz="-0.025 -0.006 -0.0065" rpy="0 0 0"/>
  <parent link="connect_link_v11"/>
  <child link="Hip_servo_Yaw_L1"/>
</joint>

<joint name="Rigid_3" type="fixed">
  <origin xyz="0.025 -0.006 -0.0065" rpy="0 0 0"/>
  <parent link="connect_link_v11"/>
  <child link="Hip_servo_Yaw__R_1"/>
</joint>

<joint name="Rigid_4" type="fixed">
  <origin xyz="0.0 0.0 -0.032" rpy="0 0 0"/>
  <parent link="Hip_servo_Yaw_L1"/>
  <child link="connect_link_21"/>
</joint>

<joint name="Rigid_5" type="fixed">
  <origin xyz="0.025 0.006 -0.0015" rpy="0 0 0"/>
  <parent link="connect_link_21"/>
  <child link="support_link1"/>
</joint>

<joint name="Revolute_12" type="continuous">
  <origin xyz="-0.0135 -0.0225 -0.037" rpy="0 0 0"/>
  <parent link="Hip_servo_Yaw_L1"/>
  <child link="Hip_bracket_yaw_L_v11"/>
  <axis xyz="-0.0 0.0 -1.0"/>
</joint>
<transmission name="Revolute_12_tran">
  <type>transmission_interface/SimpleTransmission</type>
  <joint name="Revolute_12">
    <hardwareInterface>PositionJointInterface</hardwareInterface>
  </joint>
  <actuator name="Revolute_12_actr">
    <hardwareInterface>PositionJointInterface</hardwareInterface>
    <mechanicalReduction>1</mechanicalReduction>
  </actuator>
</transmission>

<joint name="Revolute_14" type="continuous">
  <origin xyz="0.0135 -0.0225 -0.0368" rpy="0 0 0"/>
  <parent link="Hip_servo_Yaw__R_1"/>
  <child link="Hip_Bracket_yaw_R1"/>
  <axis xyz="-0.0 0.0 -1.0"/>
</joint>
<transmission name="Revolute_14_tran">
  <type>transmission_interface/SimpleTransmission</type>
  <joint name="Revolute_14">
    <hardwareInterface>PositionJointInterface</hardwareInterface>
  </joint>
  <actuator name="Revolute_14_actr">
    <hardwareInterface>PositionJointInterface</hardwareInterface>
    <mechanicalReduction>1</mechanicalReduction>
  </actuator>
</transmission>

<joint name="Rigid_15" type="fixed">
  <origin xyz="-0.022128 -0.236498 0.013626" rpy="0 0 0"/>
  <parent link="Hip_bracket_yaw_L_v11"/>
  <child link="Bush_2_1"/>
</joint>

<joint name="Rigid_16" type="fixed">
  <origin xyz="0.077128 0.236699 0.013626" rpy="0 0 0"/>
  <parent link="Hip_Bracket_yaw_R1"/>
  <child link="Bush_1_v11"/>
</joint>

<joint name="Rigid_17" type="fixed">
  <origin xyz="0.022 -0.247072 -0.279325" rpy="0 0 0"/>
  <parent link="Bush_1_v11"/>
  <child link="Washer_11"/>
</joint>

<joint name="Revolute_42" type="continuous">
  <origin xyz="-0.022128 -0.236498 -0.034374" rpy="0 0 0"/>
  <parent link="Hip_bracket_yaw_L_v11"/>
  <child link="Hip_servo_roll_L1"/>
  <axis xyz="-0.0 -1.0 -0.0"/>
</joint>
<transmission name="Revolute_42_tran">
  <type>transmission_interface/SimpleTransmission</type>
  <joint name="Revolute_42">
    <hardwareInterface>PositionJointInterface</hardwareInterface>
  </joint>
  <actuator name="Revolute_42_actr">
    <hardwareInterface>PositionJointInterface</hardwareInterface>
    <mechanicalReduction>1</mechanicalReduction>
  </actuator>
</transmission>

<joint name="Rigid_43" type="fixed">
  <origin xyz="0.030628 0.266273 -0.030426" rpy="0 0 0"/>
  <parent link="Hip_servo_roll_L1"/>
  <child link="Support_roll_servo_L1"/>
</joint>

<joint name="Rigid_44" type="fixed">
  <origin xyz="-0.023502 -0.01855 1.2e-05" rpy="0 0 0"/>
  <parent link="Support_roll_servo_L1"/>
  <child link="Hip_servo_Pitch_L1"/>
</joint>

<joint name="Revolute_45" type="continuous">
  <origin xyz="0.0 0.024 -0.029" rpy="0 0 0"/>
  <parent link="Hip_Bracket_yaw_R1"/>
  <child link="Hip_servo_roll_R1"/>
  <axis xyz="-0.0 -1.0 -0.0"/>
</joint>
<transmission name="Revolute_45_tran">
  <type>transmission_interface/SimpleTransmission</type>
  <joint name="Revolute_45">
    <hardwareInterface>PositionJointInterface</hardwareInterface>
  </joint>
  <actuator name="Revolute_45_actr">
    <hardwareInterface>PositionJointInterface</hardwareInterface>
    <mechanicalReduction>1</mechanicalReduction>
  </actuator>
</transmission>

<joint name="Rigid_46" type="fixed">
  <origin xyz="0.0085 0.00575 -0.0358" rpy="0 0 0"/>
  <parent link="Hip_servo_roll_R1"/>
  <child link="Support_roll_Servo_R1"/>
</joint>

<joint name="Rigid_47" type="fixed">
  <origin xyz="0.006498 -0.01853 -1.3e-05" rpy="0 0 0"/>
  <parent link="Support_roll_Servo_R1"/>
  <child link="Hip_servo_Pitch_R1"/>
</joint>

<joint name="Rigid_48" type="fixed">
  <origin xyz="0.0 -0.0235 0.0403" rpy="0 0 0"/>
  <parent link="Hip_servo_Pitch_L1"/>
  <child link="side_attach_L_hip1"/>
</joint>

<joint name="Rigid_49" type="fixed">
  <origin xyz="-0.03 -0.0235 0.0403" rpy="0 0 0"/>
  <parent link="Hip_servo_Pitch_R1"/>
  <child link="side_attach_R_hip1"/>
</joint>

<joint name="Rigid_50" type="fixed">
  <origin xyz="0.03425 -0.0085 0.0358" rpy="0 0 0"/>
  <parent link="Hip_servo_Pitch_L1"/>
  <child link="Horn_L_pitch1"/>
</joint>

<joint name="Rigid_51" type="fixed">
  <origin xyz="-0.03425 -0.0085 0.0358" rpy="0 0 0"/>
  <parent link="Hip_servo_Pitch_R1"/>
  <child link="Horn_R_pitch1"/>
</joint>

<joint name="Revolute_52" type="continuous">
  <origin xyz="-0.00575 -0.0085 0.0358" rpy="0 0 0"/>
  <parent link="Hip_servo_Pitch_L1"/>
  <child link="Hip_Knee_bracket_L1"/>
  <axis xyz="-1.0 0.0 0.0"/>
</joint>
<transmission name="Revolute_52_tran">
  <type>transmission_interface/SimpleTransmission</type>
  <joint name="Revolute_52">
    <hardwareInterface>PositionJointInterface</hardwareInterface>
  </joint>
  <actuator name="Revolute_52_actr">
    <hardwareInterface>PositionJointInterface</hardwareInterface>
    <mechanicalReduction>1</mechanicalReduction>
  </actuator>
</transmission>

<joint name="Revolute_53" type="continuous">
  <origin xyz="0.00575 -0.0085 0.0358" rpy="0 0 0"/>
  <parent link="Hip_servo_Pitch_R1"/>
  <child link="Hip_Knee_Backet_R1"/>
  <axis xyz="1.0 -0.0 0.0"/>
</joint>
<transmission name="Revolute_53_tran">
  <type>transmission_interface/SimpleTransmission</type>
  <joint name="Revolute_53">
    <hardwareInterface>PositionJointInterface</hardwareInterface>
  </joint>
  <actuator name="Revolute_53_actr">
    <hardwareInterface>PositionJointInterface</hardwareInterface>
    <mechanicalReduction>1</mechanicalReduction>
  </actuator>
</transmission>

<joint name="Rigid_54" type="fixed">
  <origin xyz="-0.01525 -0.005 -0.0589" rpy="0 0 0"/>
  <parent link="Hip_Knee_Backet_R1"/>
  <child link="Knee_attach_R1"/>
</joint>

<joint name="Rigid_55" type="fixed">
  <origin xyz="0.01525 -0.005 -0.0589" rpy="0 0 0"/>
  <parent link="Hip_Knee_bracket_L1"/>
  <child link="Knee_attach_L1"/>
</joint>

<joint name="Rigid_56" type="fixed">
  <origin xyz="0.009 -0.0035 -0.0058" rpy="0 0 0"/>
  <parent link="Knee_attach_R1"/>
  <child link="Knee_servo_Pitch_R1"/>
</joint>

<joint name="Rigid_57" type="fixed">
  <origin xyz="-0.009 -0.0035 -0.0058" rpy="0 0 0"/>
  <parent link="Knee_attach_L1"/>
  <child link="Knee_servo_Pitch_L1"/>
</joint>

<joint name="Rigid_58" type="fixed">
  <origin xyz="-0.03425 0.0085 -0.0358" rpy="0 0 0"/>
  <parent link="Knee_servo_Pitch_R1"/>
  <child link="Horn_knee_R1"/>
</joint>

<joint name="Rigid_59" type="fixed">
  <origin xyz="0.03315 0.0085 -0.0358" rpy="0 0 0"/>
  <parent link="Knee_servo_Pitch_L1"/>
  <child link="horn_knee_L1"/>
</joint>

<joint name="Revolute_60" type="continuous">
  <origin xyz="0.00575 0.0085 -0.0358" rpy="0 0 0"/>
  <parent link="Knee_servo_Pitch_R1"/>
  <child link="Knee_Foot_bracket_R1"/>
  <axis xyz="1.0 -0.0 0.0"/>
</joint>
<transmission name="Revolute_60_tran">
  <type>transmission_interface/SimpleTransmission</type>
  <joint name="Revolute_60">
    <hardwareInterface>PositionJointInterface</hardwareInterface>
  </joint>
  <actuator name="Revolute_60_actr">
    <hardwareInterface>PositionJointInterface</hardwareInterface>
    <mechanicalReduction>1</mechanicalReduction>
  </actuator>
</transmission>

<joint name="Revolute_61" type="continuous">
  <origin xyz="-0.00575 0.0085 -0.0358" rpy="0 0 0"/>
  <parent link="Knee_servo_Pitch_L1"/>
  <child link="Knee_Foot_Bracket_L1"/>
  <axis xyz="-1.0 0.0 -0.0"/>
</joint>
<transmission name="Revolute_61_tran">
  <type>transmission_interface/SimpleTransmission</type>
  <joint name="Revolute_61">
    <hardwareInterface>PositionJointInterface</hardwareInterface>
  </joint>
  <actuator name="Revolute_61_actr">
    <hardwareInterface>PositionJointInterface</hardwareInterface>
    <mechanicalReduction>1</mechanicalReduction>
  </actuator>
</transmission>

<joint name="Revolute_64" type="continuous">
  <origin xyz="0.0415 -0.0005 -0.099998" rpy="0 0 0"/>
  <parent link="Knee_Foot_Bracket_L1"/>
  <child link="Foot_servo_pitch_L1"/>
  <axis xyz="1.0 -0.0 0.0"/>
</joint>
<transmission name="Revolute_64_tran">
  <type>transmission_interface/SimpleTransmission</type>
  <joint name="Revolute_64">
    <hardwareInterface>PositionJointInterface</hardwareInterface>
  </joint>
  <actuator name="Revolute_64_actr">
    <hardwareInterface>PositionJointInterface</hardwareInterface>
    <mechanicalReduction>1</mechanicalReduction>
  </actuator>
</transmission>

<joint name="Rigid_65" type="fixed">
  <origin xyz="0.045512 0.032925 -0.045099" rpy="0 0 0"/>
  <parent link="Foot_servo_pitch_L1"/>
  <child link="Horn_foot_L1"/>
</joint>

<joint name="Revolute_66" type="continuous">
  <origin xyz="-0.0415 -0.0005 -0.099999" rpy="0 0 0"/>
  <parent link="Knee_Foot_bracket_R1"/>
  <child link="Foot_servo_pitch_R1"/>
  <axis xyz="1.0 -0.0 -0.0"/>
</joint>
<transmission name="Revolute_66_tran">
  <type>transmission_interface/SimpleTransmission</type>
  <joint name="Revolute_66">
    <hardwareInterface>PositionJointInterface</hardwareInterface>
  </joint>
  <actuator name="Revolute_66_actr">
    <hardwareInterface>PositionJointInterface</hardwareInterface>
    <mechanicalReduction>1</mechanicalReduction>
  </actuator>
</transmission>

<joint name="Rigid_67" type="fixed">
  <origin xyz="-0.045687 0.077176 -0.045094" rpy="0 0 0"/>
  <parent link="Foot_servo_pitch_R1"/>
  <child link="horn_foot_R1"/>
</joint>

<joint name="Rigid_68" type="fixed">
  <origin xyz="-0.03575 -0.015 0.0295" rpy="0 0 0"/>
  <parent link="Foot_servo_pitch_L1"/>
  <child link="side_attach_foot_L1"/>
</joint>

<joint name="Rigid_69" type="fixed">
  <origin xyz="0.00575 -0.015 0.0295" rpy="0 0 0"/>
  <parent link="Foot_servo_pitch_R1"/>
  <child link="side_attach_foot_R1"/>
</joint>

<joint name="Rigid_70" type="fixed">
  <origin xyz="0.015 -0.0058 -0.0295" rpy="0 0 0"/>
  <parent link="side_attach_foot_L1"/>
  <child link="Washer_31"/>
</joint>

<joint name="Rigid_71" type="fixed">
  <origin xyz="0.015 -0.0058 -0.0295" rpy="0 0 0"/>
  <parent link="side_attach_foot_R1"/>
  <child link="Washer_41"/>
</joint>

<joint name="Rigid_72" type="fixed">
  <origin xyz="0.03575 0.0085 0.0358" rpy="0 0 0"/>
  <parent link="Foot_servo_pitch_R1"/>
  <child link="support_attach_foot_R1"/>
</joint>

<joint name="Rigid_73" type="fixed">
  <origin xyz="-0.03575 0.0085 0.0358" rpy="0 0 0"/>
  <parent link="Foot_servo_pitch_L1"/>
  <child link="support_attach_foot_L1"/>
</joint>

<joint name="Rigid_74" type="fixed">
  <origin xyz="-0.023498 0.01853 1.3e-05" rpy="0 0 0"/>
  <parent link="support_attach_foot_R1"/>
  <child link="foot_Servo_roll_R1"/>
</joint>

<joint name="Rigid_75" type="fixed">
  <origin xyz="0.006502 0.01853 -1.3e-05" rpy="0 0 0"/>
  <parent link="support_attach_foot_L1"/>
  <child link="foot_servo_roll_L1"/>
</joint>

<joint name="Revolute_76" type="continuous">
  <origin xyz="0.0085 -0.00575 -0.0358" rpy="0 0 0"/>
  <parent link="foot_Servo_roll_R1"/>
  <child link="foot_connect_R1"/>
  <axis xyz="-0.0 -1.0 -0.0"/>
</joint>
<transmission name="Revolute_76_tran">
  <type>transmission_interface/SimpleTransmission</type>
  <joint name="Revolute_76">
    <hardwareInterface>PositionJointInterface</hardwareInterface>
  </joint>
  <actuator name="Revolute_76_actr">
    <hardwareInterface>PositionJointInterface</hardwareInterface>
    <mechanicalReduction>1</mechanicalReduction>
  </actuator>
</transmission>

<joint name="Revolute_77" type="continuous">
  <origin xyz="0.0085 -0.00575 -0.0358" rpy="0 0 0"/>
  <parent link="foot_servo_roll_L1"/>
  <child link="foot_connect_L1"/>
  <axis xyz="-0.0 -1.0 -0.0"/>
</joint>
<transmission name="Revolute_77_tran">
  <type>transmission_interface/SimpleTransmission</type>
  <joint name="Revolute_77">
    <hardwareInterface>PositionJointInterface</hardwareInterface>
  </joint>
  <actuator name="Revolute_77_actr">
    <hardwareInterface>PositionJointInterface</hardwareInterface>
    <mechanicalReduction>1</mechanicalReduction>
  </actuator>
</transmission>

<joint name="Rigid_78" type="fixed">
  <origin xyz="-0.098626 0.010107 0.036187" rpy="0 0 0"/>
  <parent link="Washer_41"/>
  <child link="Bush_31"/>
</joint>

<joint name="Rigid_79" type="fixed">
  <origin xyz="-0.022626 0.010102 0.036012" rpy="0 0 0"/>
  <parent link="Washer_31"/>
  <child link="Bush_41"/>
</joint>

<joint name="Rigid_82" type="fixed">
  <origin xyz="0.022128 0.218498 -0.042626" rpy="0 0 0"/>
  <parent link="Bush_2_1"/>
  <child link="Washer_21"/>
</joint>

<joint name="Rigid_85" type="fixed">
  <origin xyz="-0.006 -0.0365 -0.034" rpy="0 0 0"/>
  <parent link="foot_connect_L1"/>
  <child link="Foot_L1"/>
</joint>

<joint name="Rigid_86" type="fixed">
  <origin xyz="-0.006 -0.0115 -0.034" rpy="0 0 0"/>
  <parent link="foot_connect_R1"/>
  <child link="Foot_R1"/>
</joint>

</robot>
